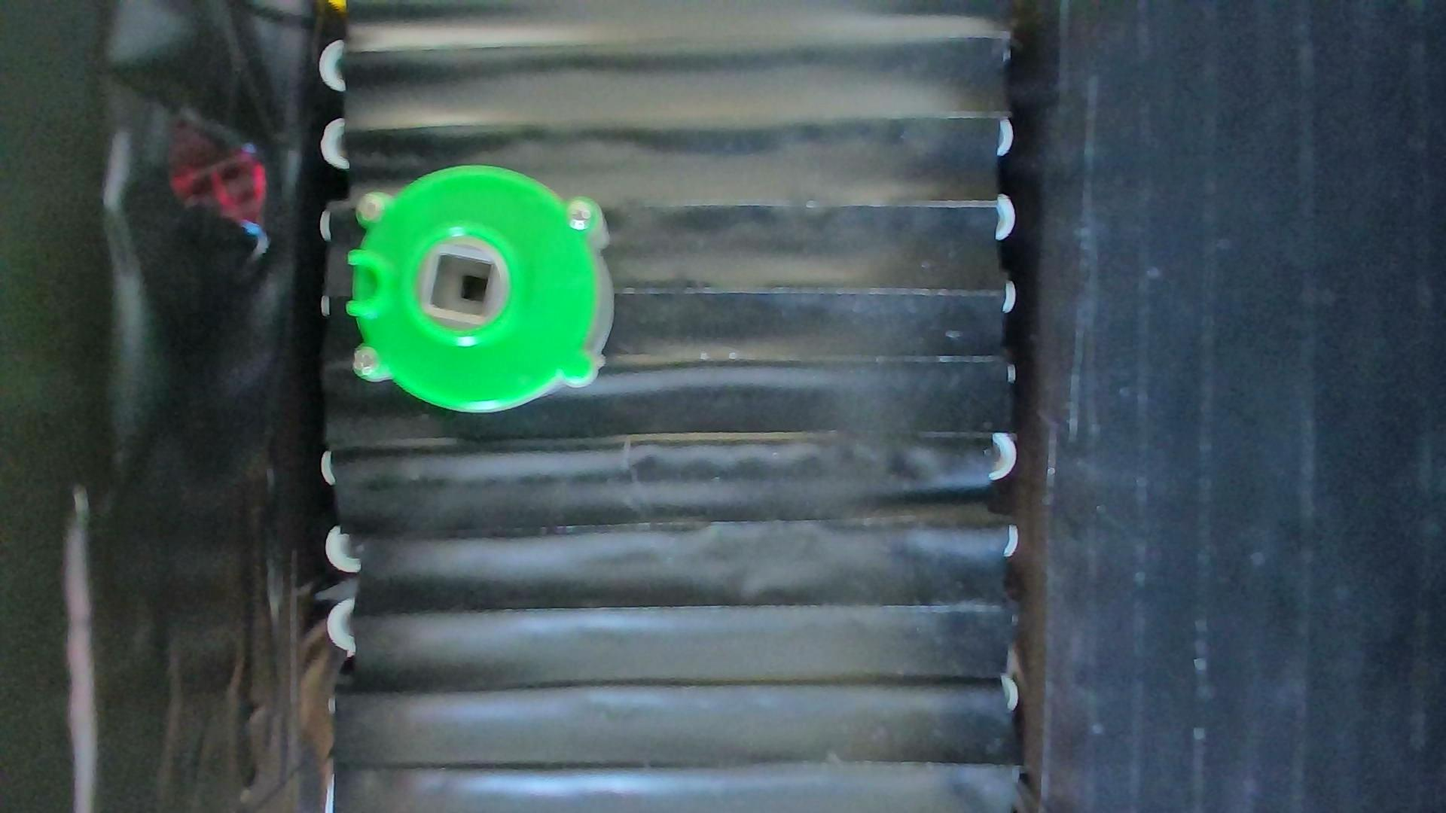cartridge: (346, 163, 615, 415)
